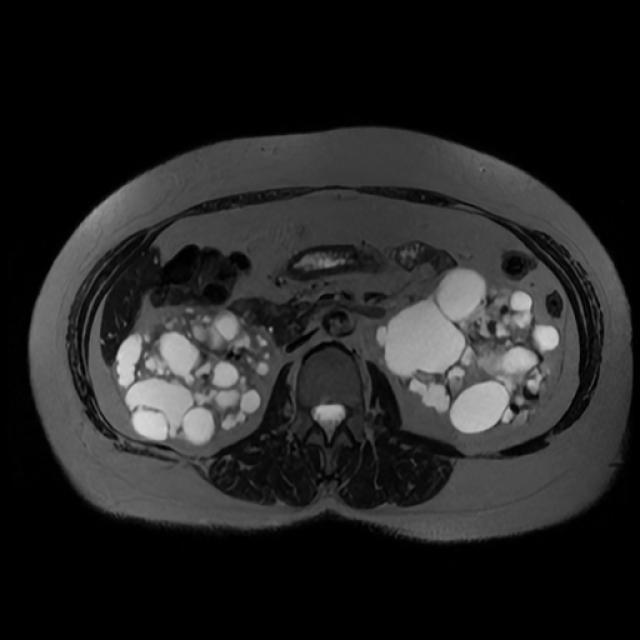sag: (114, 304, 273, 446)
sol: (376, 266, 562, 434)
